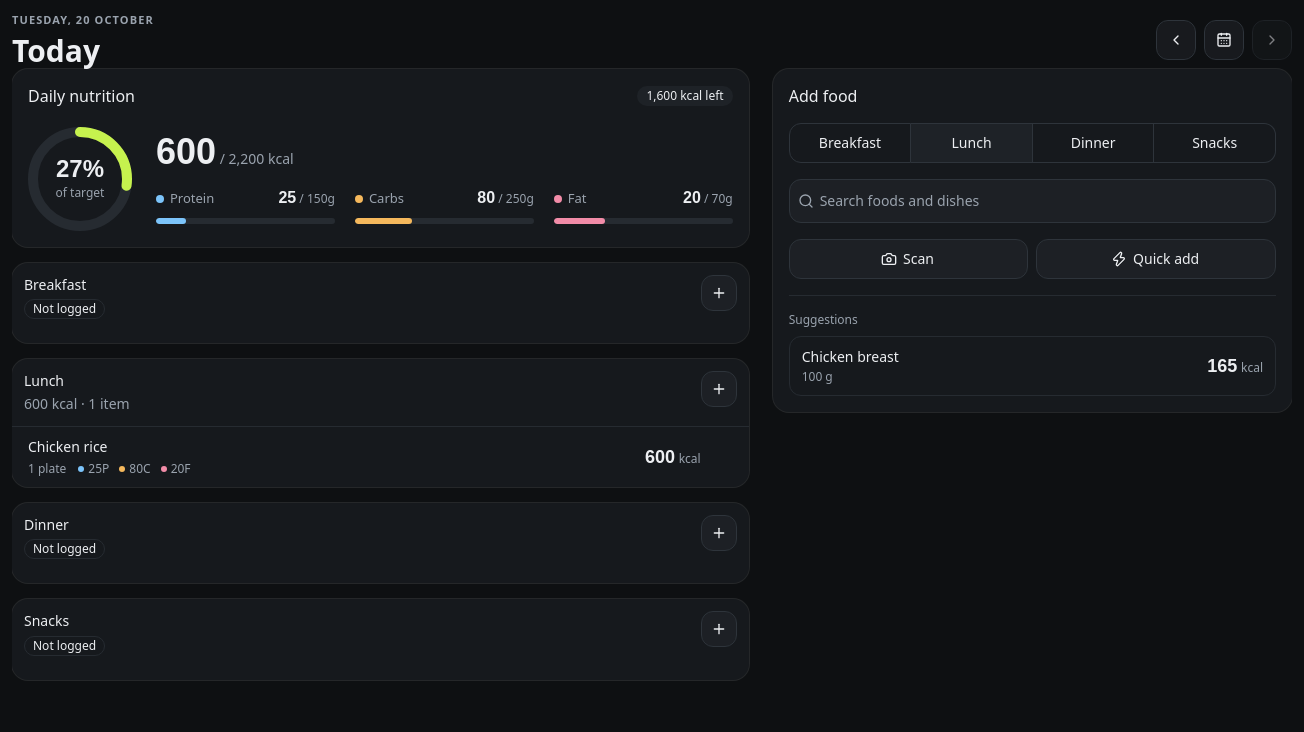
Test: FoodPage › moves between days, but not past today
Expected: the text "Chicken rice" is shown, x1=28 y1=437 x2=108 y2=456
Expected: the button named "Next day" is disabled, x1=1252 y1=20 x2=1292 y2=60
Click the button named "Previous day". click: (1176, 40)
box: x1=1156 y1=20 x2=1196 y2=60
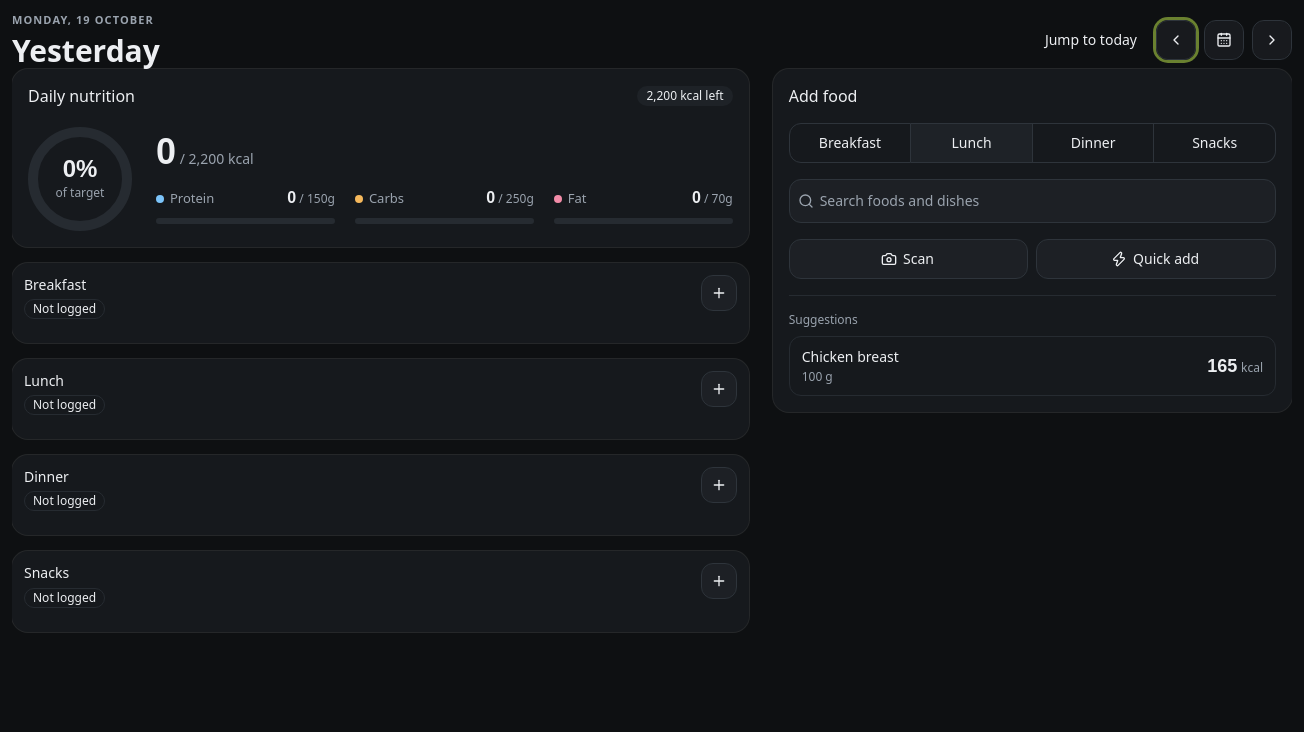
Expected: the heading "Yesterday" is shown, x1=12 y1=32 x2=160 y2=68
Expected: the button "Chicken rice" is gone
Click the button "Jump to today". click: (1091, 40)
box: x1=1034 y1=20 x2=1148 y2=60
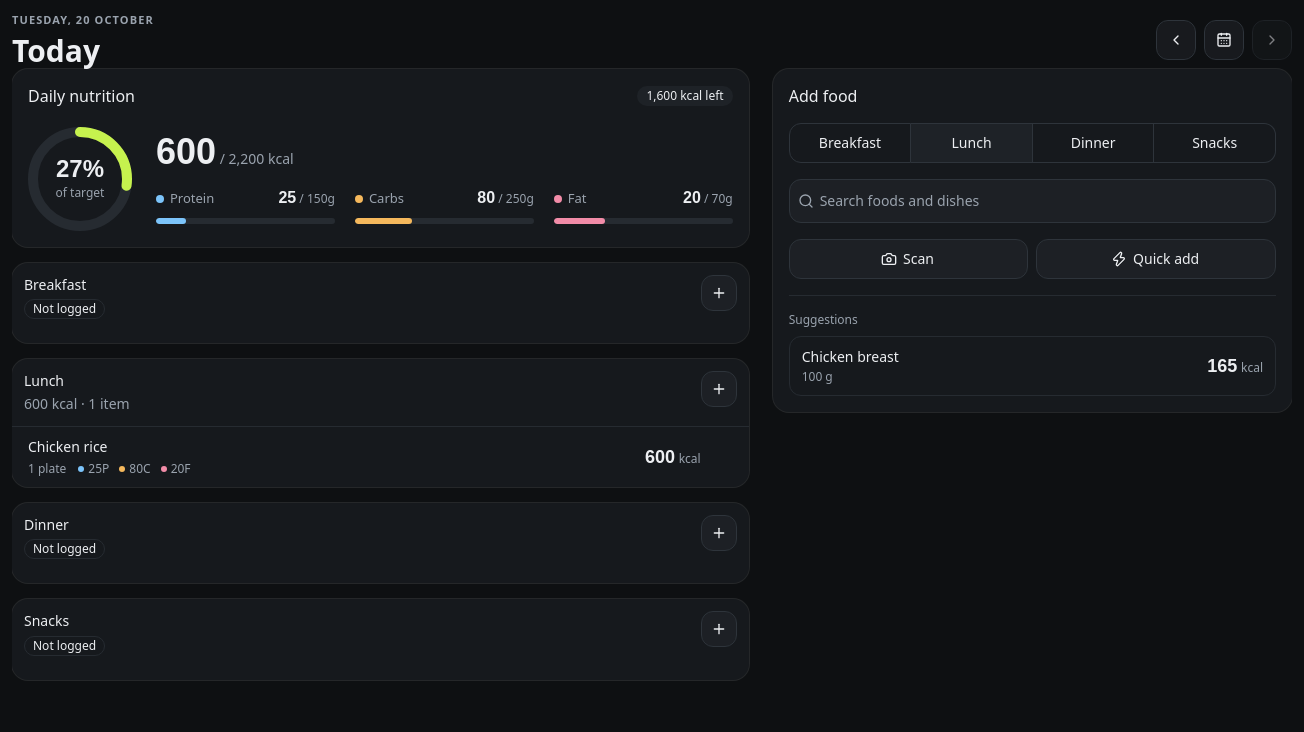
Expected: the text "Chicken rice" is shown, x1=28 y1=437 x2=108 y2=456
